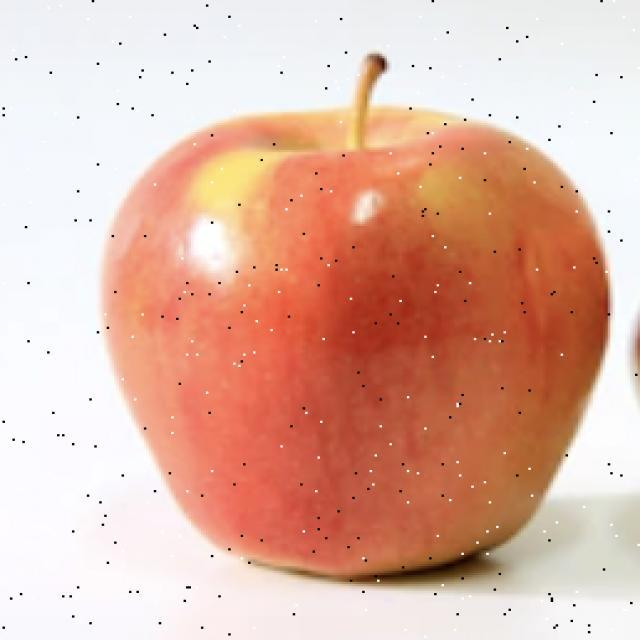Fresh Apple: (117, 108, 595, 615)
